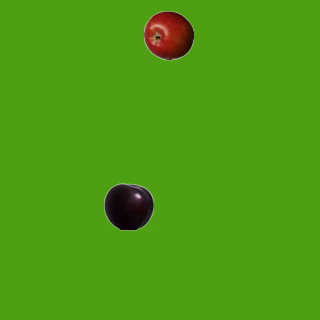Apple Braeburn: (143, 10, 193, 60)
Cherry Wax Black: (103, 181, 153, 231)
